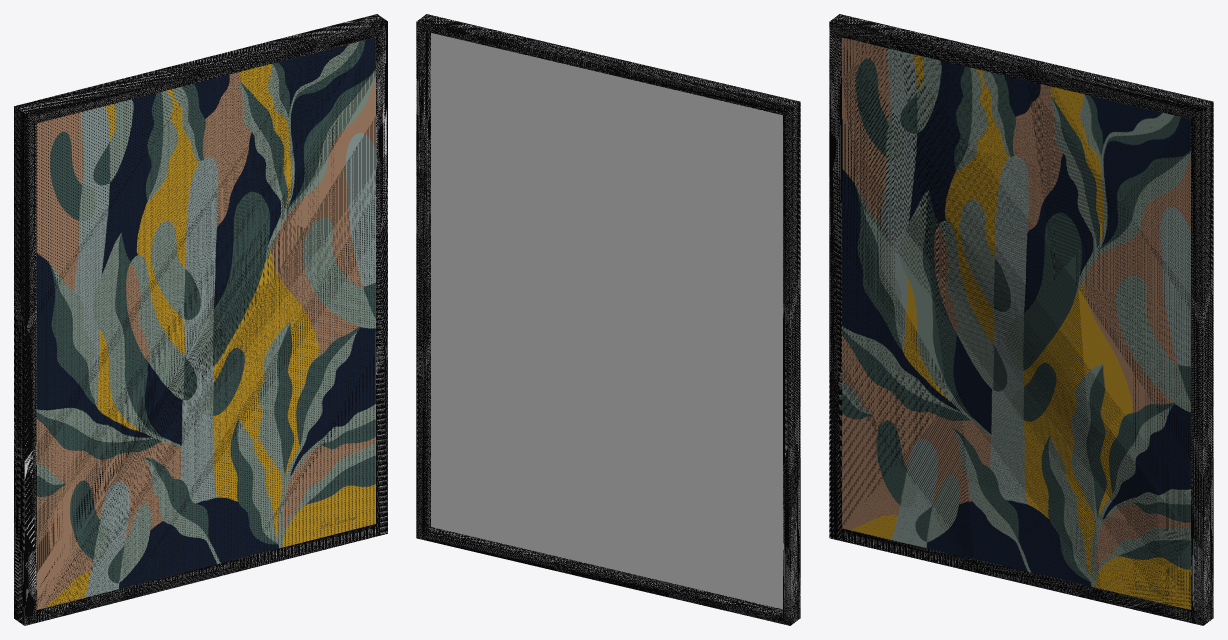
File: art25.dae
3 views of the same model, side by side, from view 1: azimuth 30°, elevation 25°; view 2: azimuth 150°, elevation 25°; view 3: azimuth 330°, elevation 25° (orthographic).
Visible parts, largest first — view 1: group_1, group_3; view 2: group_4, group_3 (×2); view 3: group_1, group_3.
Boxes of the visible parts, x1,y1,x2,y2 form: group_1: (36,37,375,609); group_3: (14,14,387,625); group_4: (431,33,782,609); group_3 (×2): (416,14,800,625); group_1: (842,37,1190,609); group_3: (829,14,1213,625).
Bounding box in the file's own units: 23.64 × 1.55 × 31.5.
Materials: 4 (1 with a texture image).
